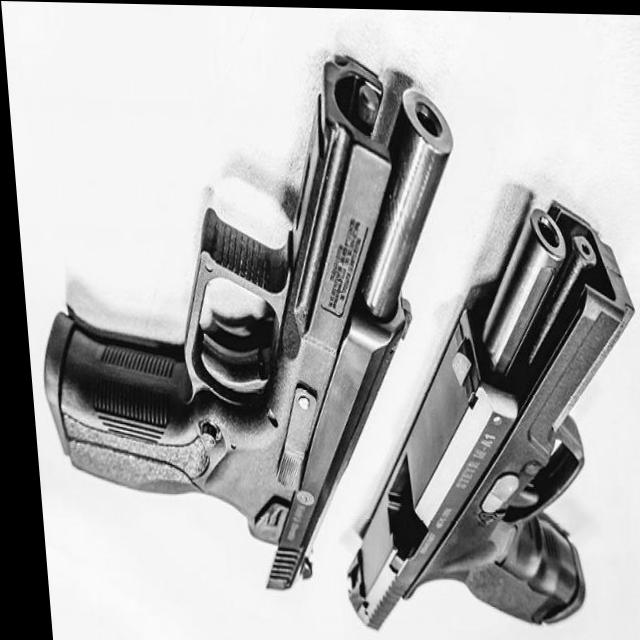handgun: (15, 49, 474, 598), (314, 205, 640, 633)
